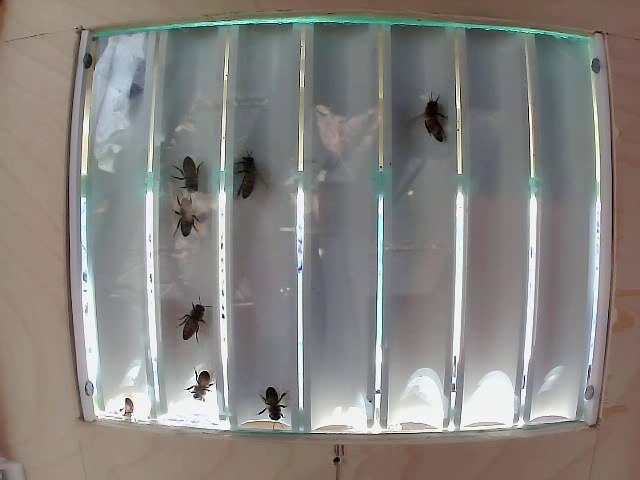bee: (413, 94, 457, 151), (176, 301, 214, 357), (226, 148, 265, 201), (169, 183, 207, 230), (171, 149, 209, 195), (188, 361, 218, 407)
